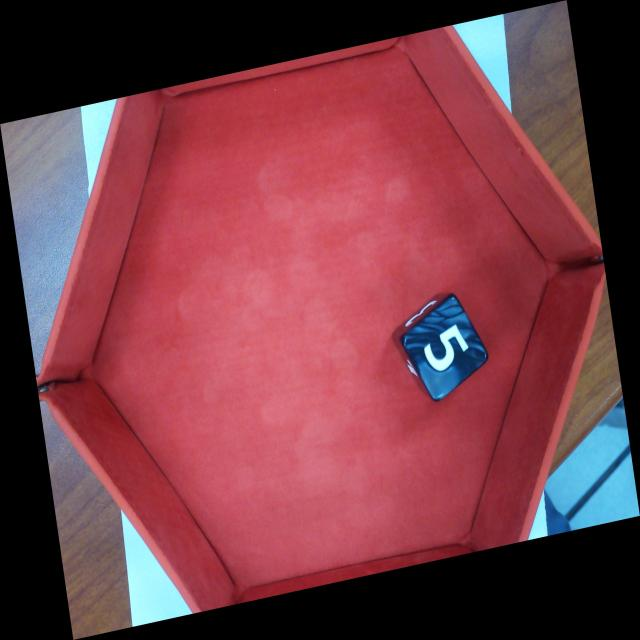dice: (396, 289, 493, 404)
